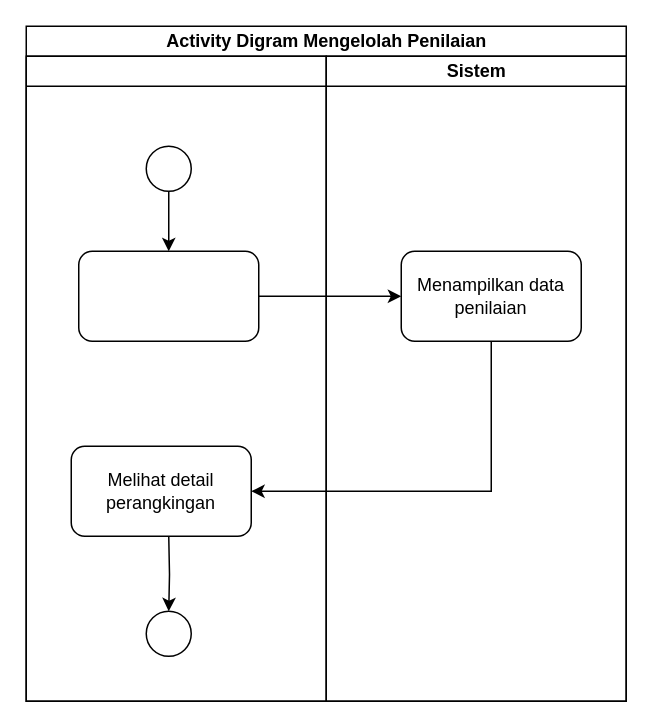
The diagram is 653 pixels wide and 728 high, and some of its shapes have lost their labels. The shapes that lost their labels are listed below. From the top down, each one's box as (x1, y1, x2, y2) in pixels, then its label:
(77, 250, 259, 341): Klik menu penilaian
(25, 55, 326, 701): User
